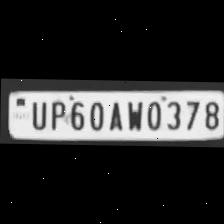0: (84, 97, 106, 128), (142, 96, 162, 129)
3: (161, 96, 181, 130)
6: (64, 97, 86, 130)
7: (179, 96, 199, 130)
8: (199, 97, 221, 128)
A: (105, 97, 123, 129)
P: (46, 96, 66, 130)
U: (26, 97, 48, 128)
W: (122, 96, 144, 131)
